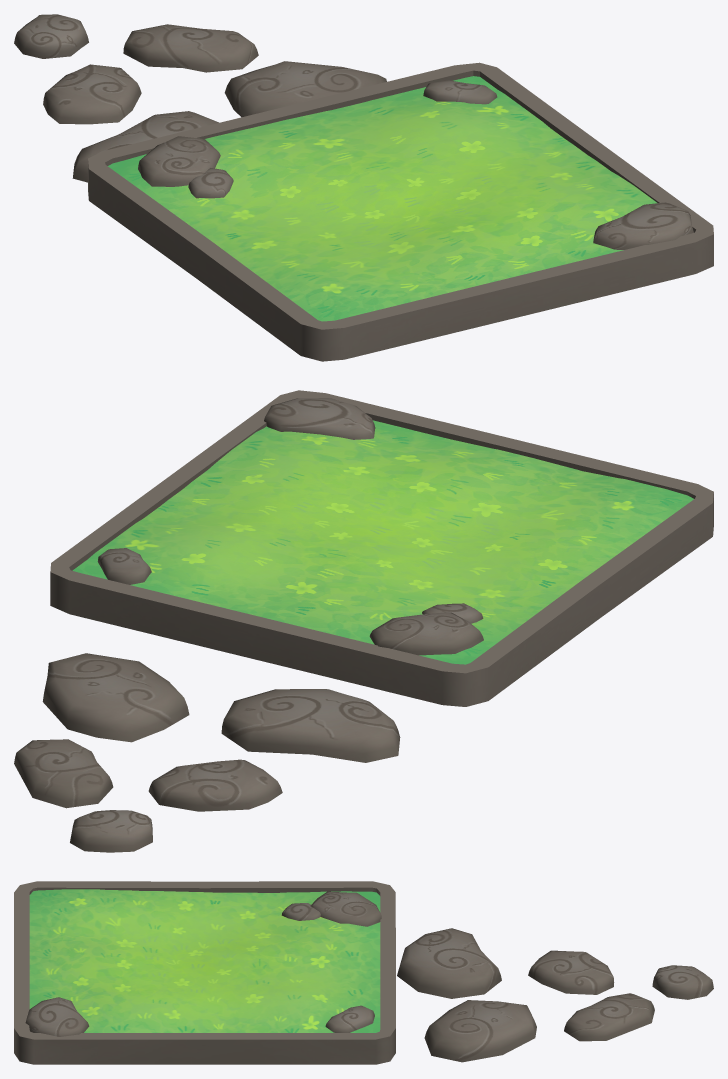
The model's file is PVB export perkje.fbx.
3 views of the same model, one above another, from view 1: azimuth 30°, elevation 25°; view 2: azimuth 150°, elevation 25°; view 3: azimuth 270°, elevation 25° (orthographic). The views are drawn at different scales.
Visible parts, largest first — view 1: aarde, buitenkant, steen_pad_2, steen_pad_4, steen_pad_3, steen_in_gras_1, steen_in_gras_2, steen_pad_5, steen_pad_1, steen_in_gras_4, steen_in_gras_3; view 2: aarde, buitenkant, steen_pad_1, steen_pad_2, steen_pad_3, steen_pad_4, steen_in_gras_2, steen_in_gras_1, steen_pad_5, steen_in_gras_4; view 3: aarde, buitenkant, steen_pad_2, steen_pad_1, steen_pad_4, steen_pad_3, steen_in_gras_1, steen_in_gras_2, steen_pad_5, steen_in_gras_4, steen_in_gras_3.
Boxes of the visible parts, x1,y1,x2,y2 form: aarde: (108,76,657,321); buitenkant: (88,62,713,361); steen_pad_2: (224,61,386,117); steen_pad_4: (123,24,258,72); steen_pad_3: (43,64,141,124); steen_in_gras_1: (593,202,693,249); steen_in_gras_2: (138,136,220,186); steen_pad_5: (14,14,88,58); steen_pad_1: (72,111,218,182); steen_in_gras_4: (423,80,497,104); steen_in_gras_3: (188,168,233,198); aarde: (72,420,693,664); buitenkant: (50,390,713,706); steen_pad_1: (221,689,400,762); steen_pad_2: (42,653,189,742); steen_pad_3: (148,759,282,811); steen_pad_4: (14,739,113,808); steen_in_gras_2: (369,612,483,655); steen_in_gras_1: (264,398,375,439); steen_pad_5: (70,810,152,852); steen_in_gras_4: (97,548,151,584); aarde: (29,889,380,1032); buitenkant: (14,881,395,1064); steen_pad_2: (424,1000,536,1062); steen_pad_1: (397,928,501,998); steen_pad_4: (564,993,654,1041); steen_pad_3: (528,950,614,994); steen_in_gras_1: (25,997,89,1036); steen_in_gras_2: (310,891,381,926); steen_pad_5: (652,965,713,999); steen_in_gras_4: (325,1005,374,1032); steen_in_gras_3: (281,903,320,920).
Bounding box in the file's own units: 18.27 × 2.84 × 34.13.
Materials: 1 (1 with a texture image).
